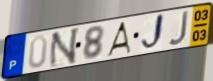0: (27, 34, 50, 70)
8: (82, 25, 105, 62)
A: (105, 20, 132, 58)
J: (140, 12, 166, 54), (167, 9, 191, 47)
N: (47, 26, 82, 70)
